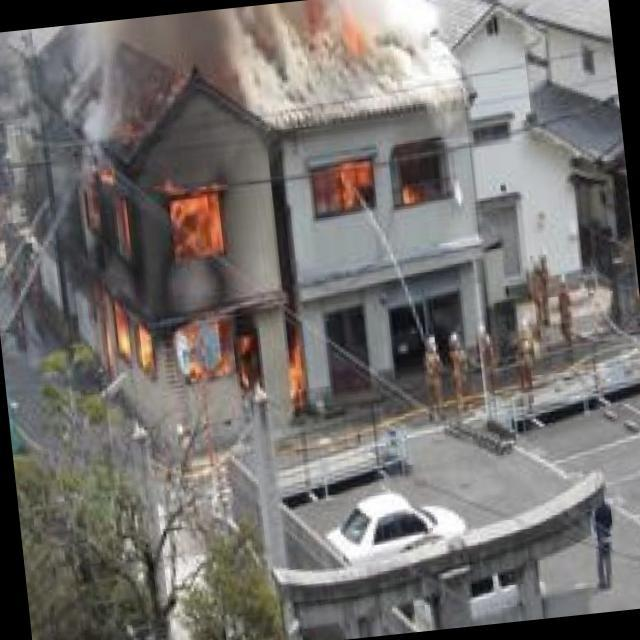Fire: (46, 130, 325, 462), (306, 146, 436, 227), (297, 1, 392, 90)
